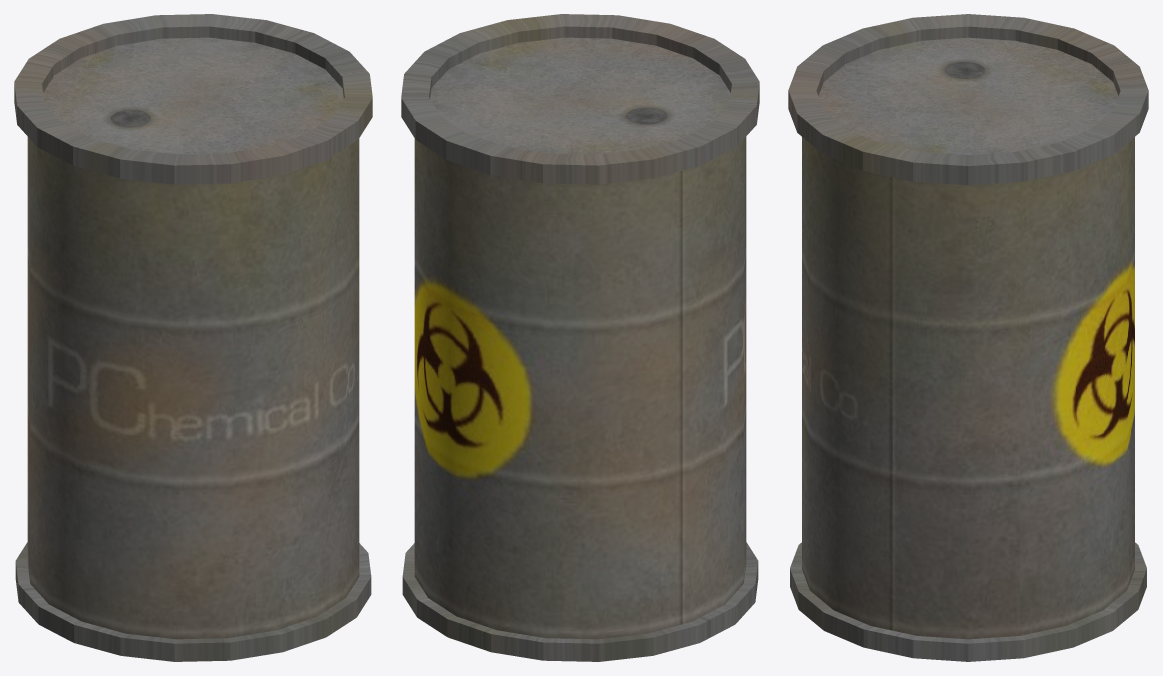
Rendered from Barrel.fbx.
3 renders of one model, left to right at view 1: azimuth 30°, elevation 25°; view 2: azimuth 150°, elevation 25°; view 3: azimuth 270°, elevation 25°, orthographic.
Parts seen in each view (by area): view 1: pCylinder1; view 2: pCylinder1; view 3: pCylinder1.
Part boxes in pixels (x1=…): pCylinder1: x1=14, y1=14, x2=372, y2=661; pCylinder1: x1=401, y1=14, x2=759, y2=661; pCylinder1: x1=788, y1=14, x2=1148, y2=661.
Size of the model in its own units: 5.76 by 8.76 by 5.76.
1 material, 1 textured.
